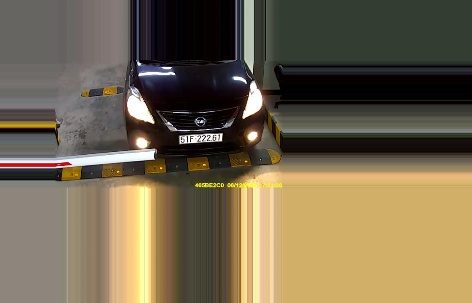plate: (174, 131, 225, 146)
